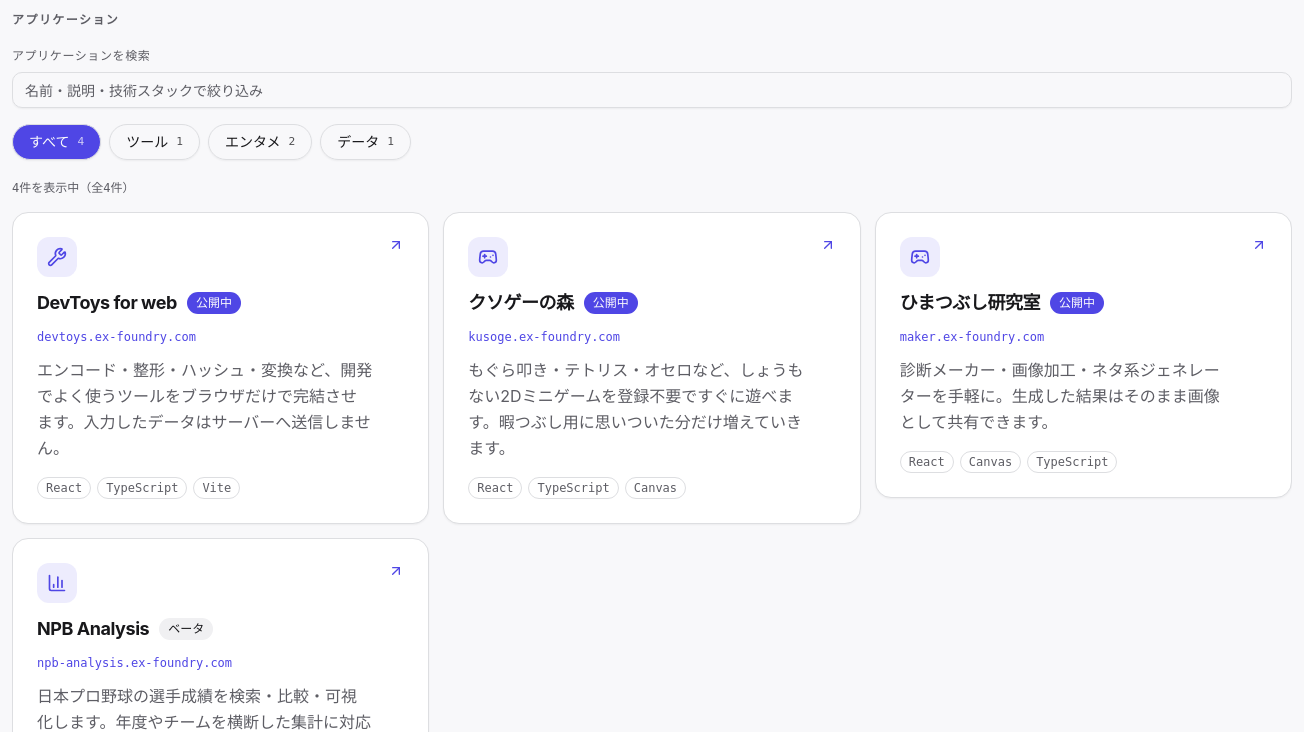
ApplicationList › explains an empty result instead of rendering an empty list
Type "存在しないアプリ" into the search field labelled "アプリケーションを検索" at (652, 90), box [12,72,1292,108]
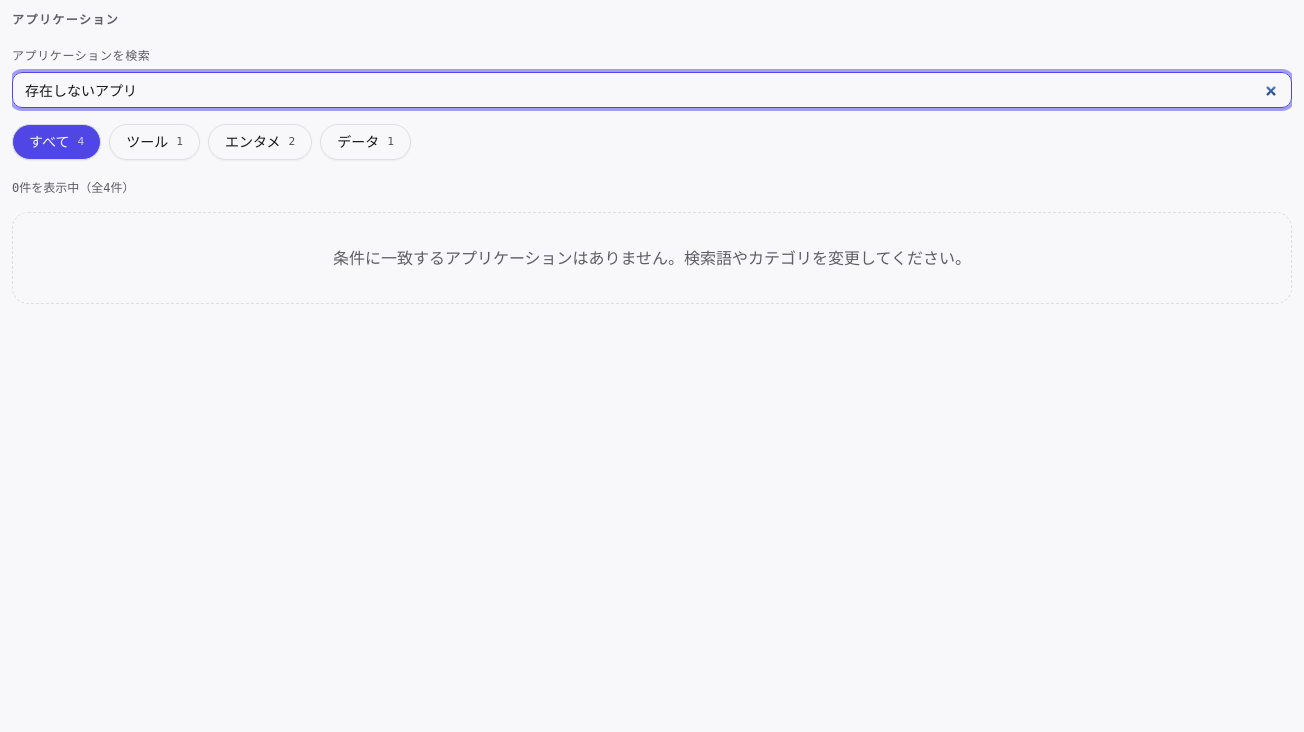
Expected: the text "条件に一致するアプリケーションはありません。検索語やカテゴリを変更してください。" is shown, [12,212,1292,304]
Expected: no links are shown
